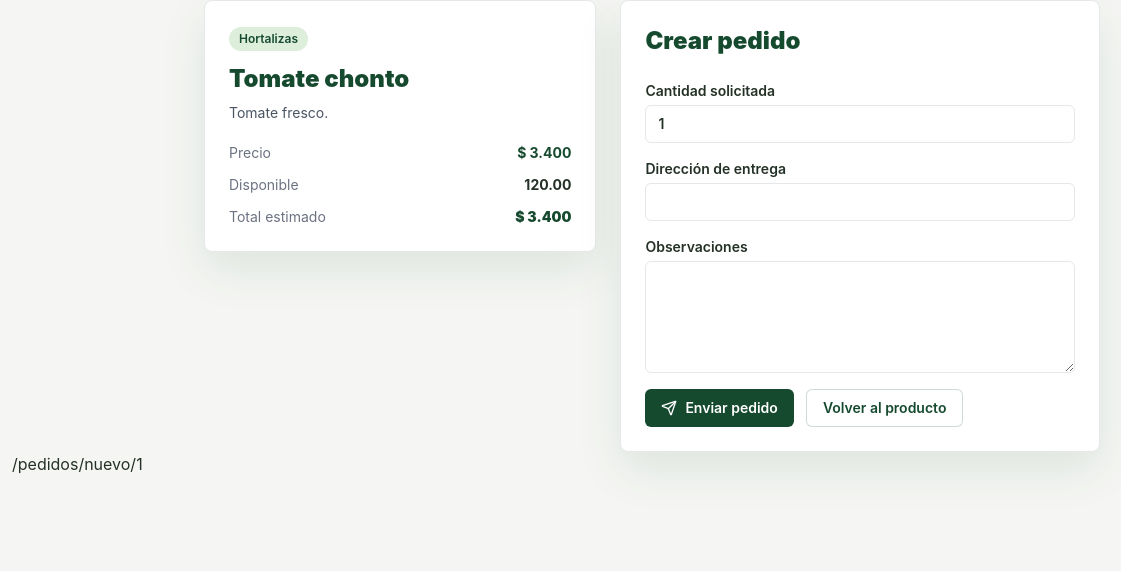
Crear pedido › muestra el error de stock del backend
In the field labelled "Dirección de entrega": (860, 202) [645,183,1075,221], type "Calle 1"
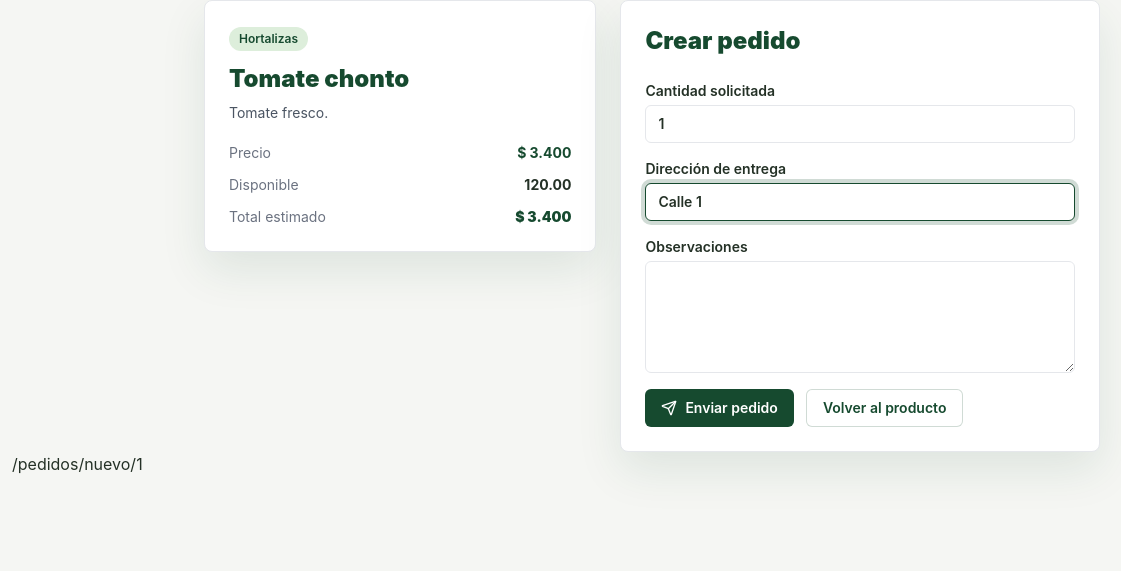
Click the button "Enviar pedido": (720, 408) [645,389,794,427]
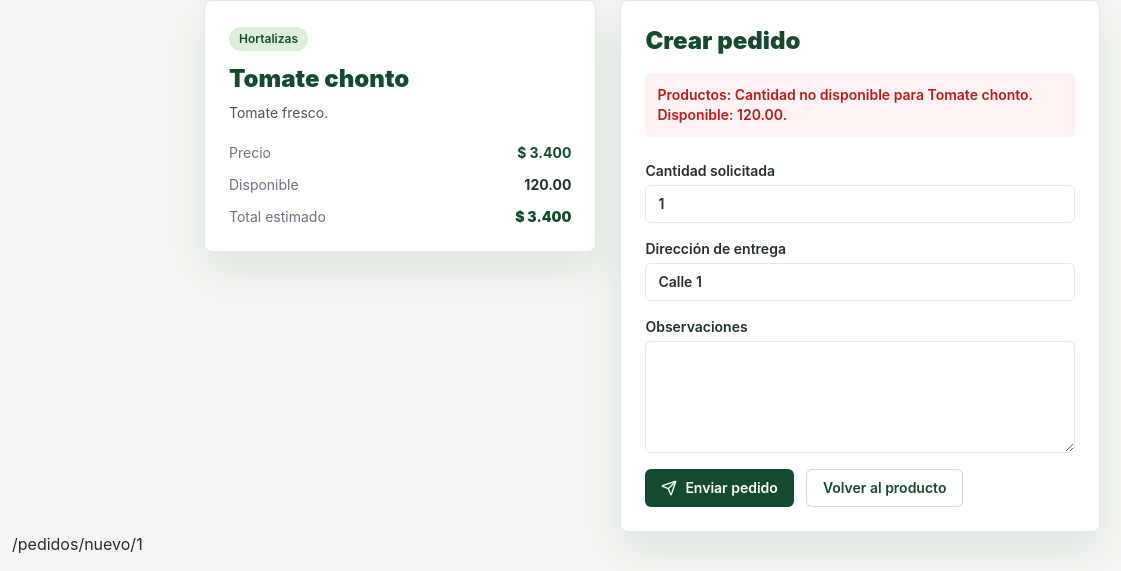
Expected: the button "Enviar pedido" is enabled, [645,469,794,507]
Expected: the text "Productos: Cantidad no disponible para Tomate chonto. Disponible: 120.00." is shown, [645,73,1075,137]
